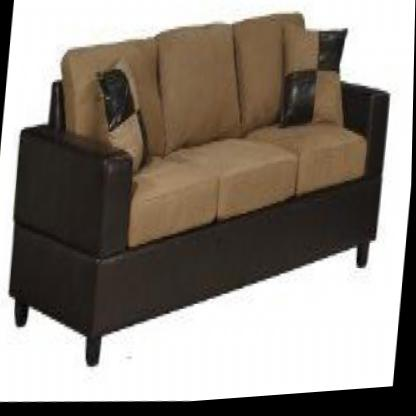Sofa: (0, 0, 400, 394)
